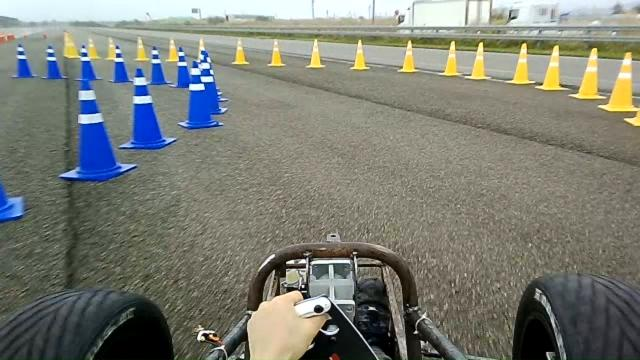blue cone: (58, 78, 137, 182), (118, 67, 177, 150), (176, 58, 212, 131), (191, 54, 225, 115)
yellow cone: (598, 51, 638, 112), (568, 47, 607, 100), (535, 44, 570, 91), (504, 42, 536, 85), (464, 41, 492, 80), (438, 40, 462, 77), (396, 39, 418, 73), (350, 39, 370, 70), (306, 38, 326, 68), (267, 38, 286, 66), (231, 38, 250, 65)
